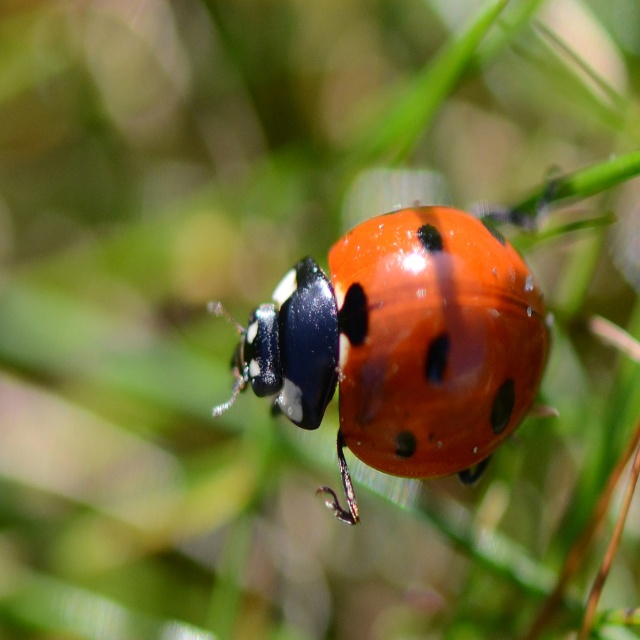Ladybug: (206, 198, 561, 529)
